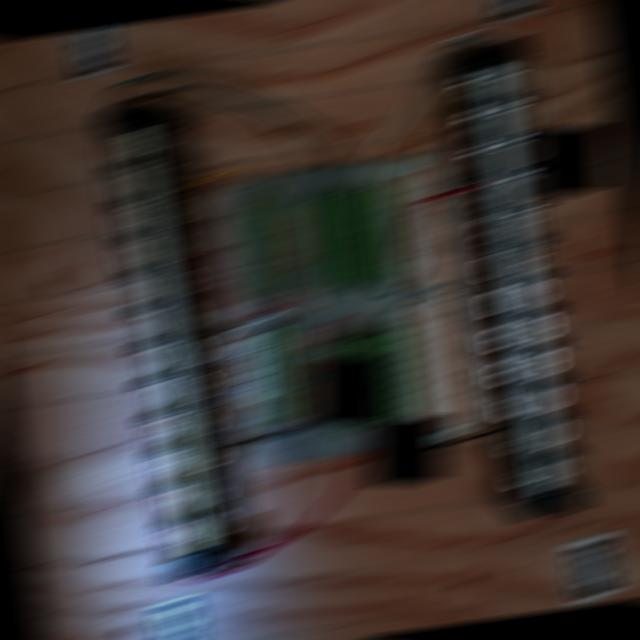Flathead_Block: (96, 101, 237, 578)
Phillips_Block: (452, 40, 590, 519)
Terminal_1: (258, 326, 304, 423), (242, 199, 286, 297)
Terminal_2: (322, 338, 365, 430), (360, 189, 403, 281), (350, 335, 392, 427), (331, 191, 373, 283), (302, 195, 344, 287)
